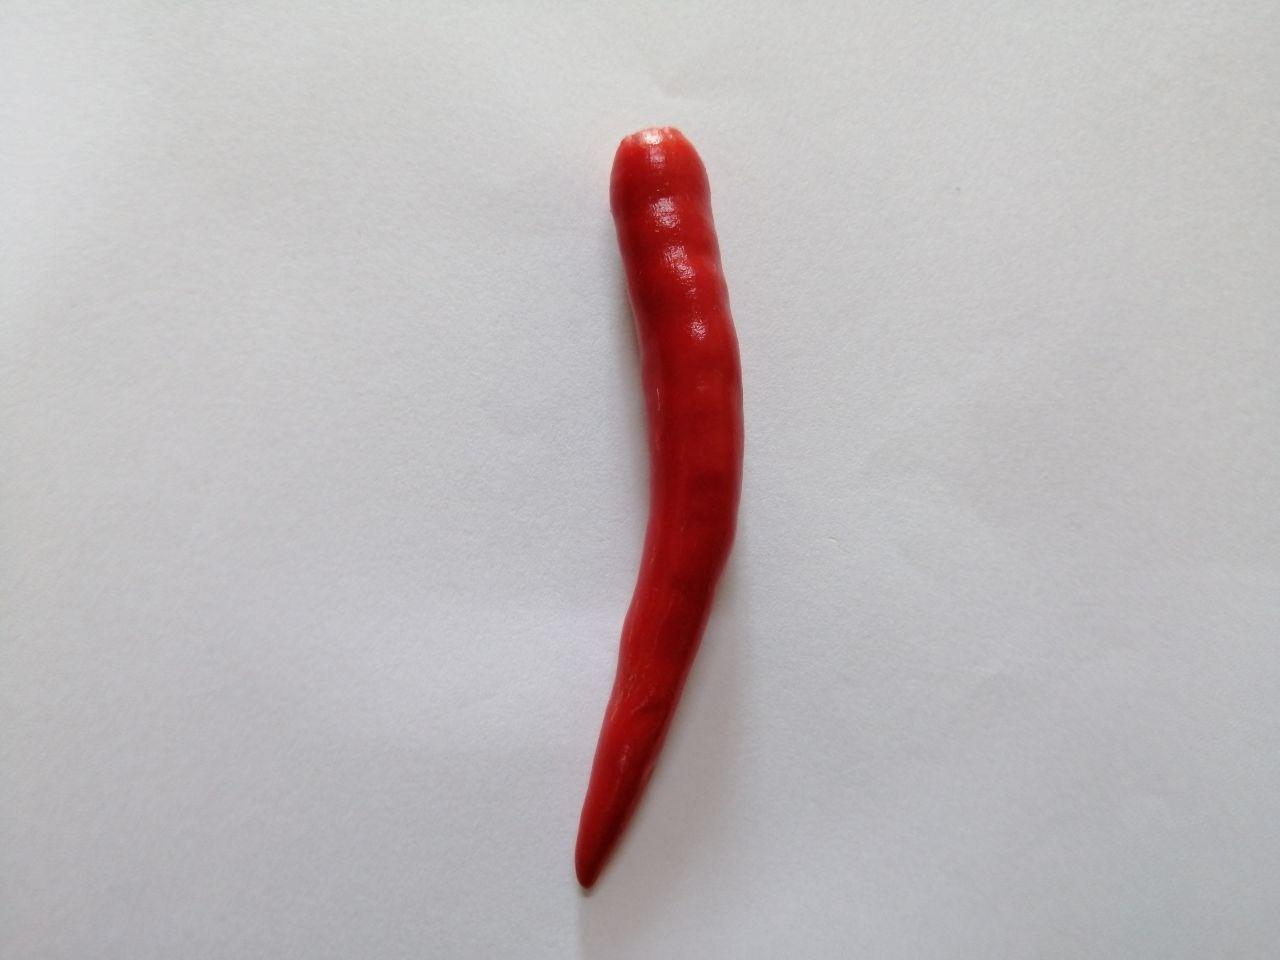lada merah: (566, 111, 755, 914)
